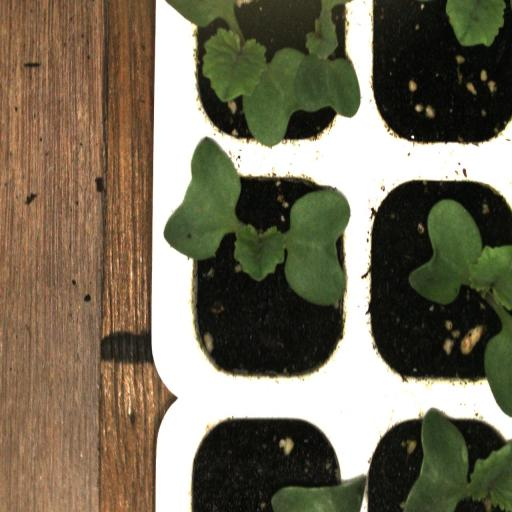seedling: (175, 153, 361, 393), (361, 155, 512, 400)
